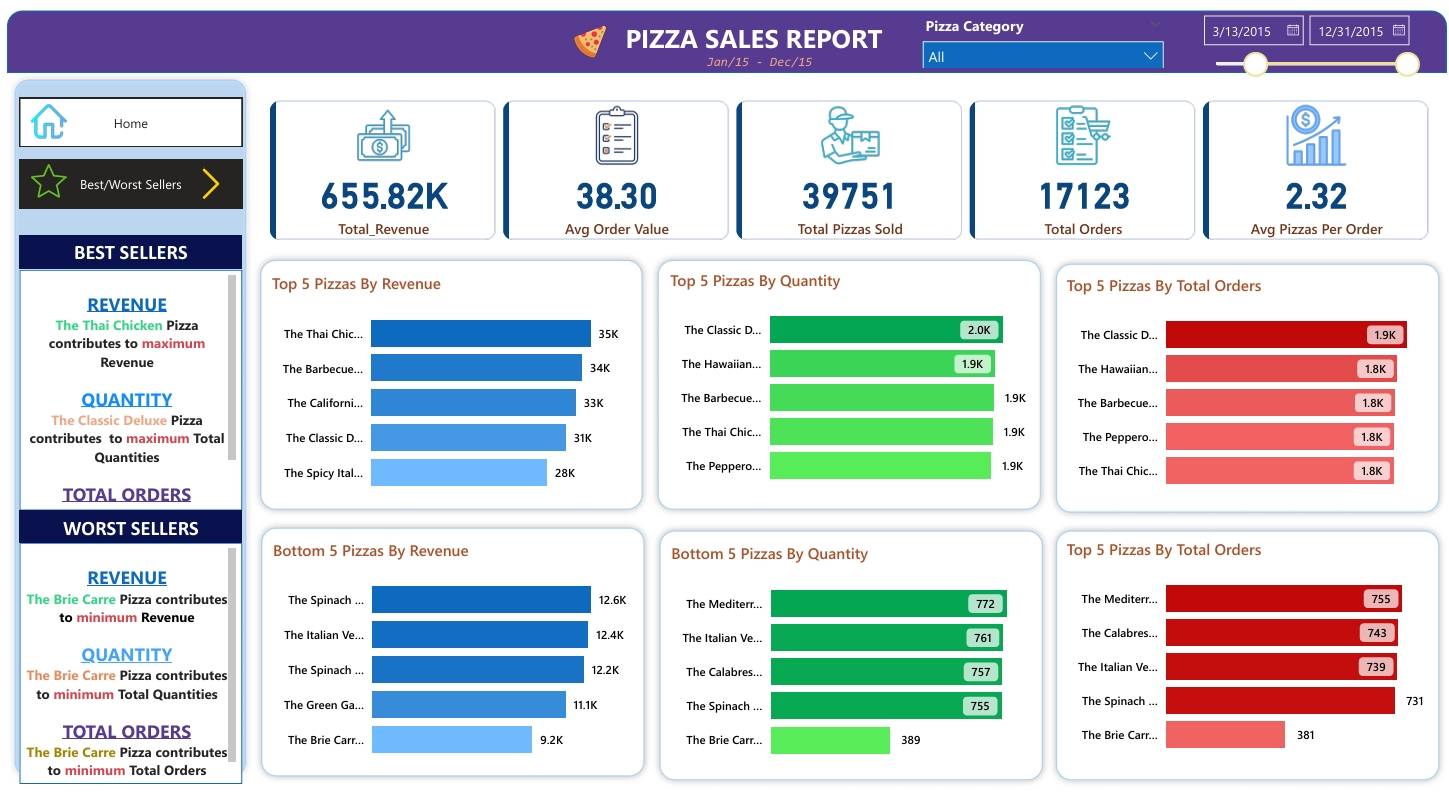

Layout of this report page (visuals, bound fields, positions):
{"tool":"powerbi","page":{"name":"Best/Worst Sellers","canvas":[1500,820],"ordinal":1},"visuals":[{"type":"cardVisual","fields":{"Data":["pizza_sales.Total_Revenue","pizza_sales.Avg Order Value","pizza_sales.Total Pizzas Sold","pizza_sales.Total Orders","pizza_sales.Avg Pizzas Per Order"]},"box":[257.4,86.9,1242.6,178.7],"z":0},{"type":"shape","box":[0,9.8,1500,65.6],"z":1000},{"type":"textbox","box":[626.7,15.3,302.2,51.5],"z":2000},{"type":"textbox","box":[704.7,48.7,158.8,37.6],"z":3000},{"type":"image","box":[587.7,25.1,39,34.8],"z":4000},{"type":"shape","box":[257.4,541,414.8,275.4],"z":5000},{"type":"shape","box":[0,74.3,257.2,742],"z":6000},{"type":"textbox","box":[13.4,243.9,232,40.1],"z":16000},{"type":"textbox","box":[13.4,279.5,232,251.3],"z":17000},{"type":"textbox","box":[13.4,530.8,232,40.1],"z":18000},{"type":"textbox","box":[13.4,565,232,251.3],"z":19000},{"type":"slicer","fields":{"Values":["pizza_sales.pizza_category"]},"box":[944.3,9.8,270.5,59],"z":20000},{"type":"slicer","fields":{"Values":["pizza_sales.order_date"]},"box":[1234.4,4.9,245.9,86.9],"z":21000},{"type":"shape","box":[670.5,262.3,414.8,275.4],"z":21001},{"type":"shape","box":[1085.2,265.6,414.8,275.4],"z":21002},{"type":"shape","box":[255.7,262.3,414.8,275.4],"z":21003},{"type":"shape","box":[672.1,544.3,414.8,275.4],"z":21004},{"type":"shape","box":[1085.2,544.3,414.8,275.4],"z":21005},{"type":"barChart","title":"Top 5 Pizzas By Revenue","fields":{"Category":["pizza_sales.pizza_name"],"Y":["pizza_sales.Total_Revenue"]},"box":[270.6,282.5,385.1,243.9],"z":21006},{"type":"barChart","title":"Bottom 5 Pizzas By Revenue","fields":{"Category":["pizza_sales.pizza_name"],"Y":["pizza_sales.Total_Revenue"]},"box":[272.1,560.6,385.1,243.9],"z":21007},{"type":"barChart","title":"Top 5 Pizzas By Quantity","fields":{"Category":["pizza_sales.pizza_name"],"Y":["pizza_sales.Total Pizzas Sold"]},"box":[686.3,280.1,385.2,238.1],"z":21008},{"type":"barChart","title":"Bottom 5 Pizzas By Quantity","fields":{"Category":["pizza_sales.pizza_name"],"Y":["pizza_sales.Total Pizzas Sold"]},"box":[687,565,385.1,239.4],"z":21009},{"type":"barChart","title":"Top 5 Pizzas By Total Orders","fields":{"Category":["pizza_sales.pizza_name"],"Y":["pizza_sales.Total Orders"]},"box":[1099.4,285.4,385.2,238.1],"z":21010},{"type":"barChart","title":"Top 5 Pizzas By Total Orders","fields":{"Category":["pizza_sales.pizza_name"],"Y":["pizza_sales.Total Orders"]},"box":[1099.4,560.2,385.2,238.1],"z":21011},{"type":"pageNavigator","box":[13.4,165,232,50.6],"z":21012},{"type":"pageNavigator","box":[13.4,101.1,232,50.6],"z":21013},{"type":"image","box":[191.8,174,41.6,32.7],"z":21014},{"type":"image","box":[25.3,107.1,37.2,37.2],"z":21015},{"type":"image","box":[25.3,157.6,37.2,58],"z":21016}]}

Visuals, with their boxes in screenshot pixels (x1, y1, x2, y2), scaled from the page's 1500x820 canvas onto the 1449x795 screenshot:
cardVisual - pizza_sales.Total_Revenue x pizza_sales.Avg Order Value: crop(249, 84, 1448, 258)
shape: crop(0, 10, 1448, 73)
textbox: crop(605, 15, 897, 65)
textbox: crop(681, 47, 834, 84)
image: crop(568, 24, 605, 58)
shape: crop(249, 525, 649, 792)
shape: crop(0, 72, 248, 791)
textbox: crop(13, 236, 237, 275)
textbox: crop(13, 271, 237, 515)
textbox: crop(13, 515, 237, 553)
textbox: crop(13, 548, 237, 791)
slicer - pizza_sales.pizza_category: crop(912, 10, 1173, 67)
slicer - pizza_sales.order_date: crop(1192, 5, 1430, 89)
shape: crop(648, 254, 1048, 521)
shape: crop(1048, 258, 1448, 525)
shape: crop(247, 254, 648, 521)
shape: crop(649, 528, 1050, 794)
shape: crop(1048, 528, 1448, 794)
"Top 5 Pizzas By Revenue" barChart: crop(261, 274, 633, 510)
"Bottom 5 Pizzas By Revenue" barChart: crop(263, 544, 635, 780)
"Top 5 Pizzas By Quantity" barChart: crop(663, 272, 1035, 502)
"Bottom 5 Pizzas By Quantity" barChart: crop(664, 548, 1036, 780)
"Top 5 Pizzas By Total Orders" barChart: crop(1062, 277, 1434, 508)
"Top 5 Pizzas By Total Orders" barChart: crop(1062, 543, 1434, 774)
pageNavigator: crop(13, 160, 237, 209)
pageNavigator: crop(13, 98, 237, 147)
image: crop(185, 169, 225, 200)
image: crop(24, 104, 60, 140)
image: crop(24, 153, 60, 209)
